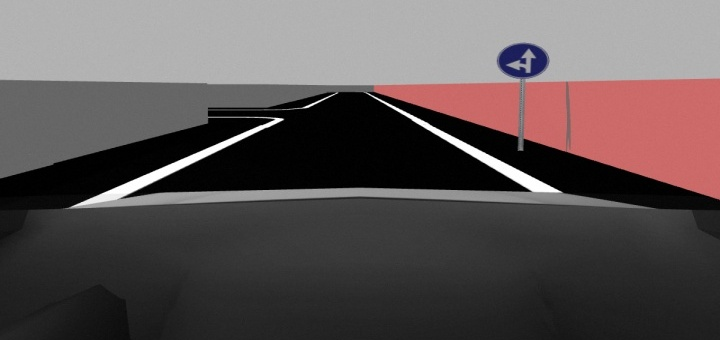ileri_sola: (497, 41, 553, 82)
